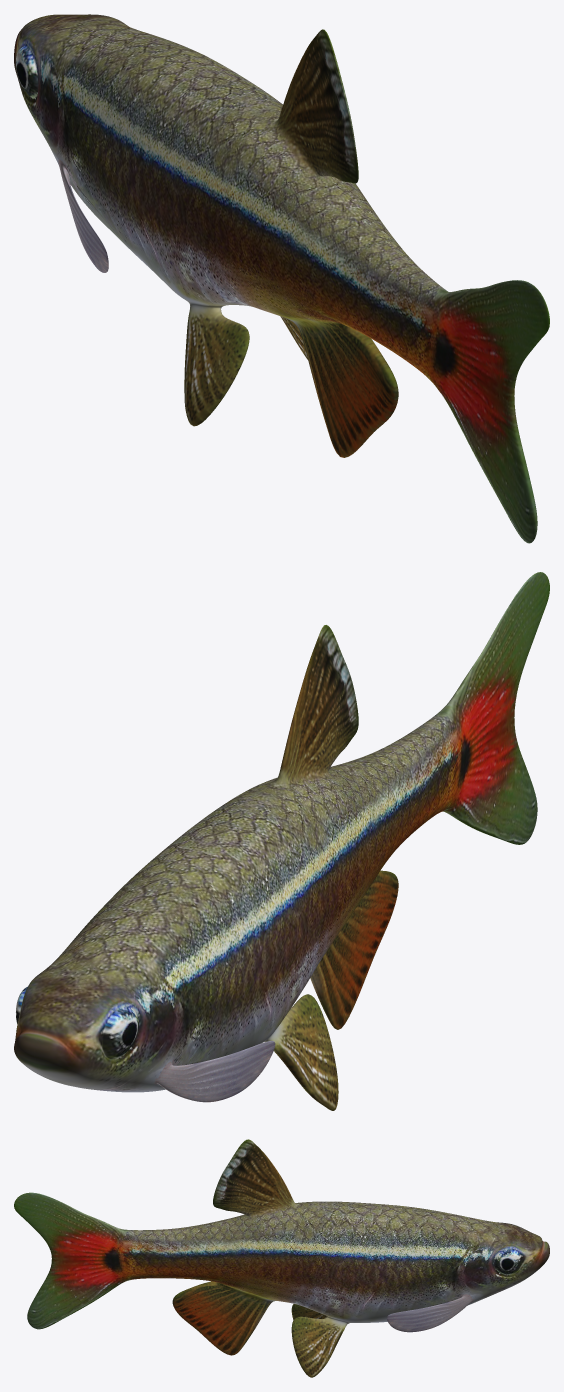
The model's file is fish3.glb.
The picture shows the model from 3 angles, top to bottom: view 1: azimuth 30°, elevation 25°; view 2: azimuth 150°, elevation 25°; view 3: azimuth 270°, elevation 25°; orthographic projection. The views are drawn at different scales.
Visible parts, largest first — view 1: 12993_Long_Fin_White__Cloud; view 2: 12993_Long_Fin_White__Cloud; view 3: 12993_Long_Fin_White__Cloud.
Boxes of the visible parts, <box> form: 12993_Long_Fin_White__Cloud: <box>14,14,549,543</box>; 12993_Long_Fin_White__Cloud: <box>14,572,549,1110</box>; 12993_Long_Fin_White__Cloud: <box>14,1139,549,1377</box>.
Size of the model in its own units: 14.85 by 35.54 by 78.43.
1 material, 1 textured.
